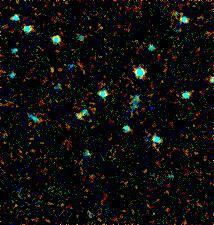star: (134, 98, 164, 128)
